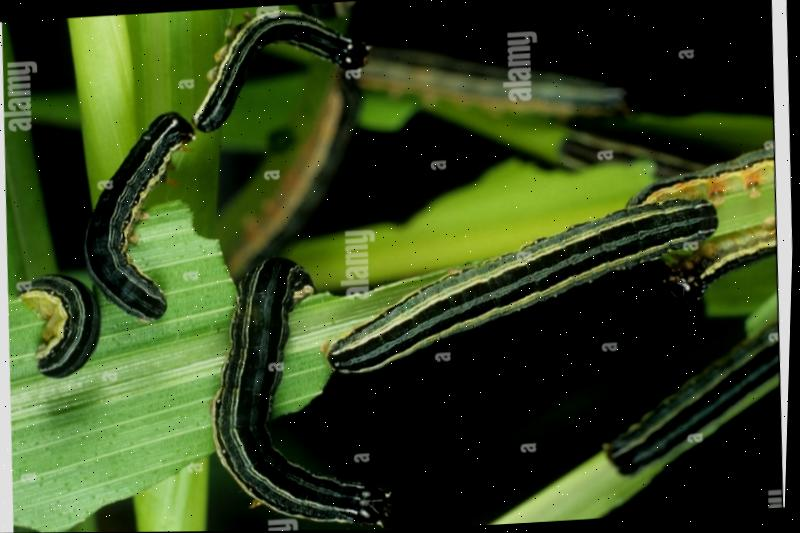fall-armyworm: (328, 200, 720, 375), (212, 258, 396, 527), (611, 325, 780, 477), (84, 112, 198, 324), (194, 11, 370, 133), (665, 218, 778, 303), (17, 274, 104, 379), (628, 149, 775, 208)
